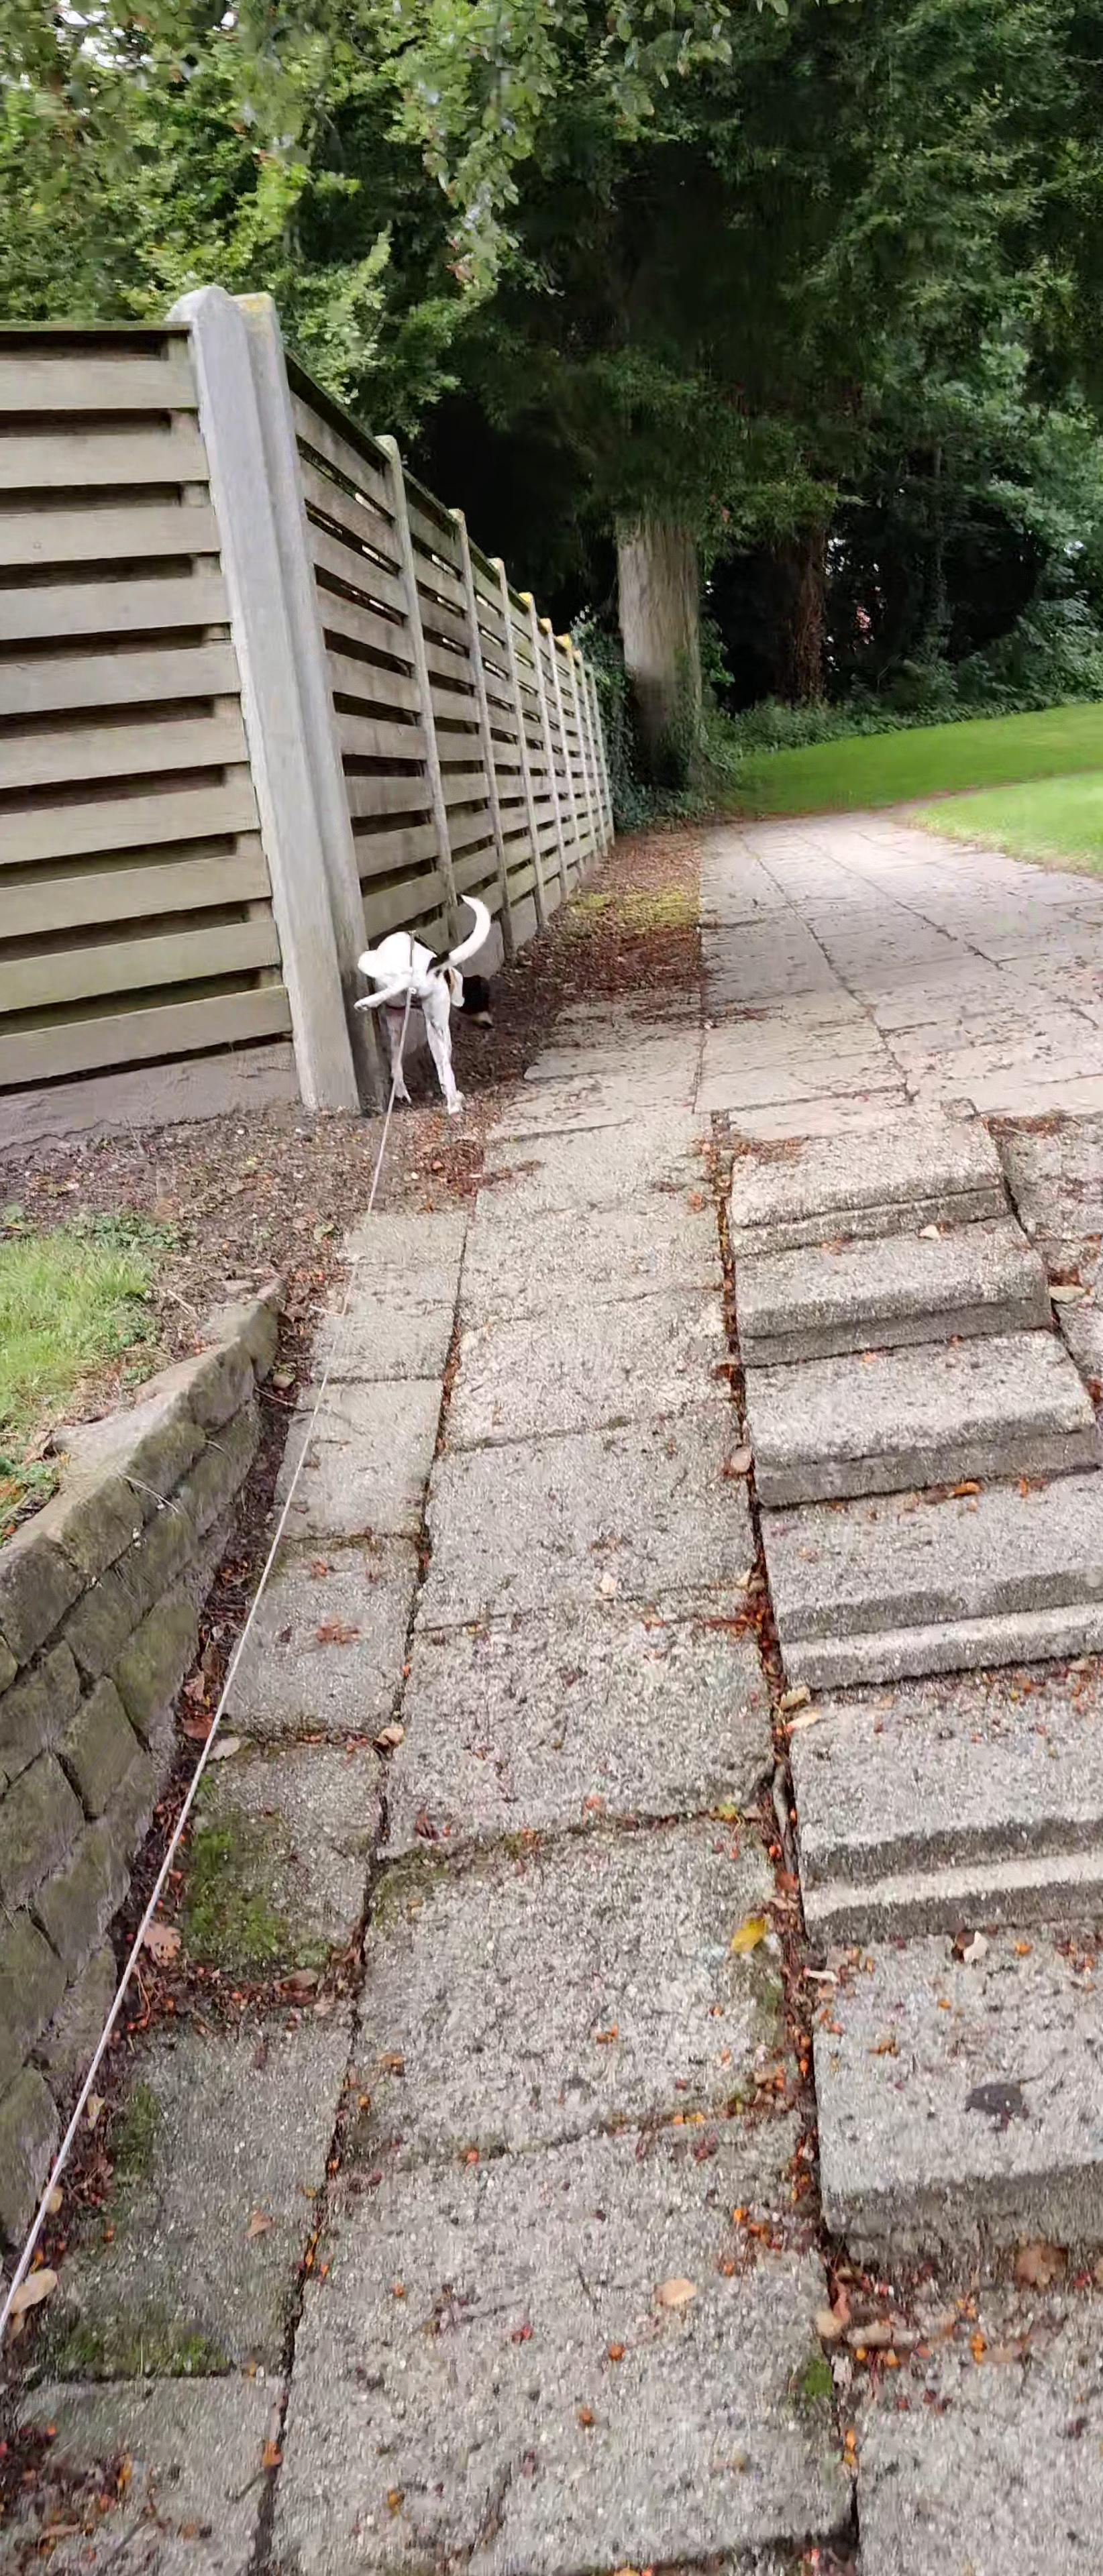Dog: (347, 890, 500, 1124)
